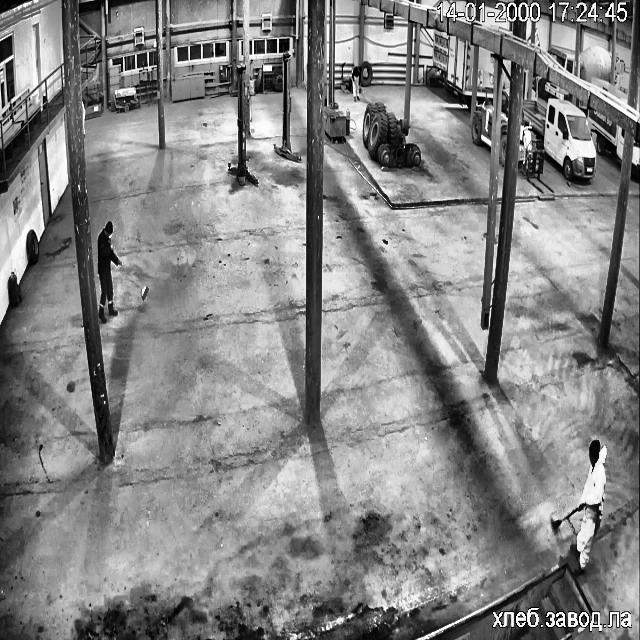car lift: (228, 65, 257, 185), (274, 53, 300, 161)
fire extinguisher: (8, 274, 21, 306)
mechanic: (570, 440, 606, 571), (97, 221, 120, 322), (351, 65, 360, 100)
truck: (524, 99, 596, 180), (433, 28, 476, 108), (588, 108, 624, 158), (518, 114, 544, 178), (576, 45, 610, 82), (472, 98, 493, 145), (476, 46, 494, 100), (592, 80, 627, 103), (498, 88, 508, 164), (548, 45, 574, 73), (537, 77, 564, 99), (632, 140, 640, 176), (504, 60, 510, 74), (535, 31, 539, 44), (528, 28, 529, 36), (472, 106, 475, 108)
